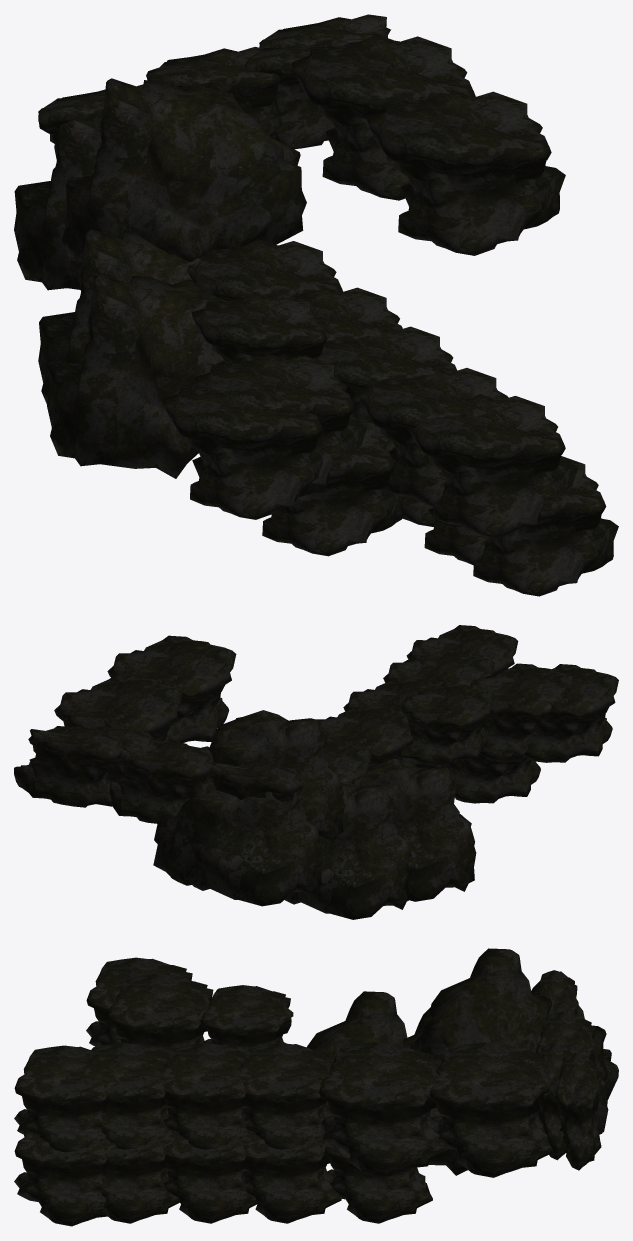
Rendered from NewBack.gltf.
3 renders of one model, top to bottom at view 1: azimuth 30°, elevation 25°; view 2: azimuth 150°, elevation 25°; view 3: azimuth 270°, elevation 25°, orthographic. The views are drawn at different scales.
Parts seen in each view (by area): view 1: Rock1A (2), Rock1A (3), Rock5A (5), Rock5A (14), Rock5A (4), Rock5A (18), Rock5A (15), Rock5A (17), Rock5A (16), Rock5A (12), Rock1A, Rock1A (1) (+9 smaller); view 2: Rock1A, Rock1A (1), Rock1A (3), Rock1A (2), Rock5A (5), Rock5A (3), Rock5A (1), Rock5A (19), Rock5A (18), Rock5A (16), Rock5A (4), Rock5A (7) (+7 smaller); view 3: Rock5A (5), Rock5A (4), Rock1A (2), Rock5A (7), Rock5A (14), Rock5A (8), Rock5A (12), Rock5A (15), Rock5A (10), Rock5A (16), Rock5A (11), Rock5A (19) (+10 smaller).
Part boxes in pixels (x1=…): Rock1A (2): x1=62, y1=78, x2=306, y2=262; Rock1A (3): x1=47, y1=274, x2=226, y2=478; Rock5A (5): x1=366, y1=90, x2=565, y2=255; Rock5A (14): x1=408, y1=394, x2=578, y2=538; Rock5A (4): x1=291, y1=34, x2=475, y2=200; Rock5A (18): x1=162, y1=384, x2=328, y2=519; Rock5A (15): x1=473, y1=456, x2=618, y2=596; Rock5A (17): x1=262, y1=415, x2=403, y2=556; Rock5A (16): x1=194, y1=353, x2=367, y2=486; Rock5A (12): x1=356, y1=366, x2=508, y2=506; Rock1A: x1=14, y1=119, x2=101, y2=290; Rock1A (1): x1=38, y1=229, x2=200, y2=403; Rock1A: x1=153, y1=775, x2=323, y2=906; Rock1A (1): x1=284, y1=781, x2=412, y2=919; Rock1A (3): x1=350, y1=758, x2=476, y2=901; Rock1A (2): x1=201, y1=710, x2=344, y2=843; Rock5A (5): x1=107, y1=635, x2=236, y2=742; Rock5A (3): x1=14, y1=726, x2=122, y2=807; Rock5A (1): x1=109, y1=739, x2=213, y2=823; Rock5A (19): x1=400, y1=682, x2=494, y2=765; Rock5A (18): x1=514, y1=664, x2=618, y2=762; Rock5A (16): x1=470, y1=663, x2=573, y2=762; Rock5A (4): x1=54, y1=674, x2=182, y2=741; Rock5A (7): x1=316, y1=706, x2=413, y2=766; Rock5A (5): x1=318, y1=1042, x2=447, y2=1177; Rock5A (4): x1=430, y1=1042, x2=553, y2=1177; Rock1A (2): x1=410, y1=948, x2=552, y2=1061; Rock5A (7): x1=238, y1=1043, x2=334, y2=1149; Rock5A (14): x1=14, y1=1045, x2=119, y2=1152; Rock5A (8): x1=162, y1=1043, x2=257, y2=1149; Rock5A (12): x1=83, y1=1043, x2=176, y2=1149; Rock5A (15): x1=14, y1=1128, x2=116, y2=1226; Rock5A (10): x1=243, y1=1129, x2=341, y2=1223; Rock5A (16): x1=107, y1=974, x2=213, y2=1052; Rock5A (11): x1=162, y1=1128, x2=257, y2=1223; Rock5A (19): x1=200, y1=985, x2=293, y2=1052.
Bounding box in the file's own units: 151 × 76.23 × 198.
Materials: 1 (1 with a texture image).
